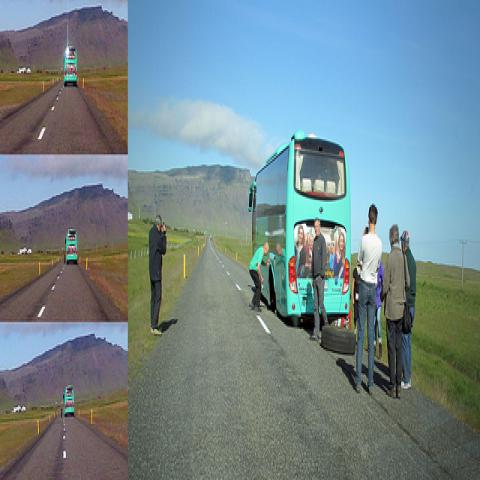bus: (248, 136, 352, 320), (64, 46, 78, 88), (60, 384, 75, 418), (65, 229, 78, 266)
